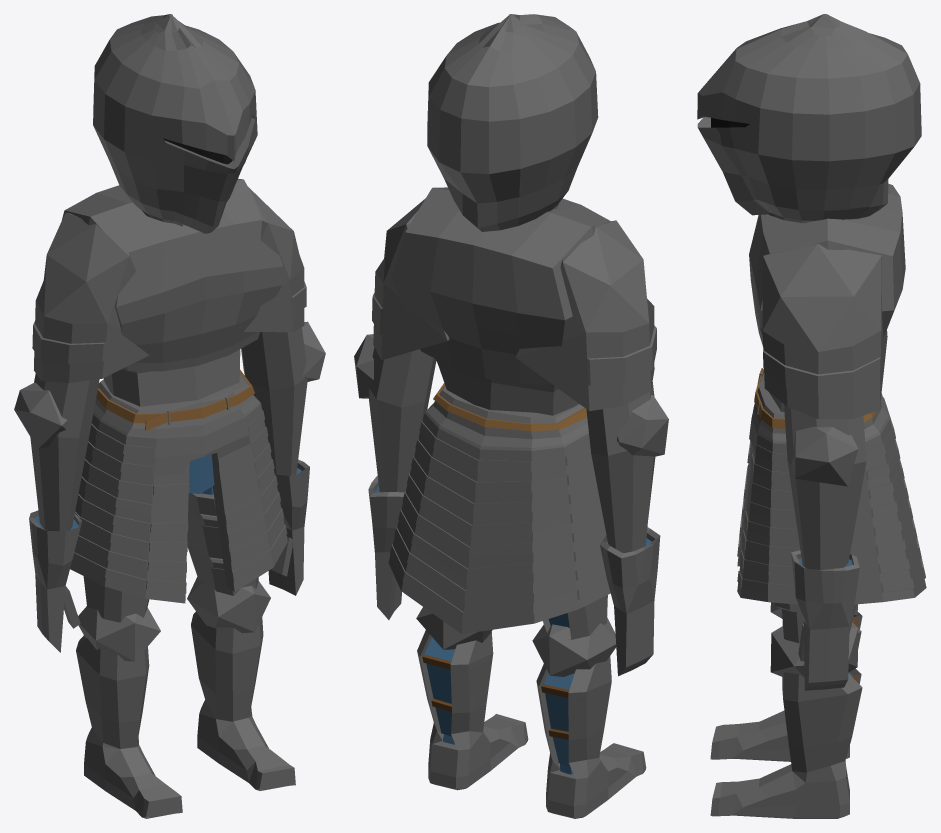
The model's file is Kinderharnas.fbx.
3 views of the same model, side by side, from view 1: azimuth 30°, elevation 25°; view 2: azimuth 150°, elevation 25°; view 3: azimuth 270°, elevation 25° (orthographic). The views are drawn at different scales.
Visible parts, largest first — view 1: Cube.002, Cube.001, Cube.003, Cylinder.001, Benen.001; view 2: Cube.002, Cube.001, Cylinder.001, Cube.003, Benen.001; view 3: Cylinder.001, Cube.001, Cube.002, Cube.003, Benen.001.
Boxes of the visible parts, x1,y1,x2,y2 form: Cube.002: (62,178,287,603); Cube.001: (29,187,309,652); Cube.003: (76,486,295,818); Cylinder.001: (93,14,257,233); Benen.001: (14,321,325,448); Cube.002: (388,187,610,633); Cube.001: (368,187,660,676); Cylinder.001: (427,14,598,231); Cube.003: (416,595,646,818); Benen.001: (354,334,668,456); Cylinder.001: (697,14,921,223); Cube.001: (762,244,887,690); Cube.002: (737,183,926,604); Cube.003: (710,602,862,818); Benen.001: (791,426,858,486).
Bounding box in the file's own units: 179 × 435 × 117.
